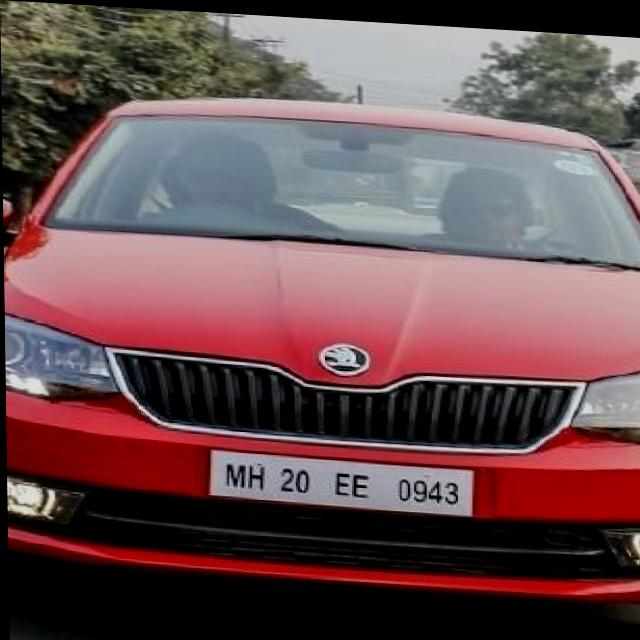0: (294, 466, 311, 492), (394, 474, 412, 497)
2: (276, 464, 295, 490)
3: (444, 478, 460, 500)
4: (426, 477, 442, 500)
9: (410, 474, 427, 498)
e: (333, 468, 351, 494), (351, 471, 369, 495)
h: (244, 459, 265, 491)
m: (225, 457, 246, 485)
